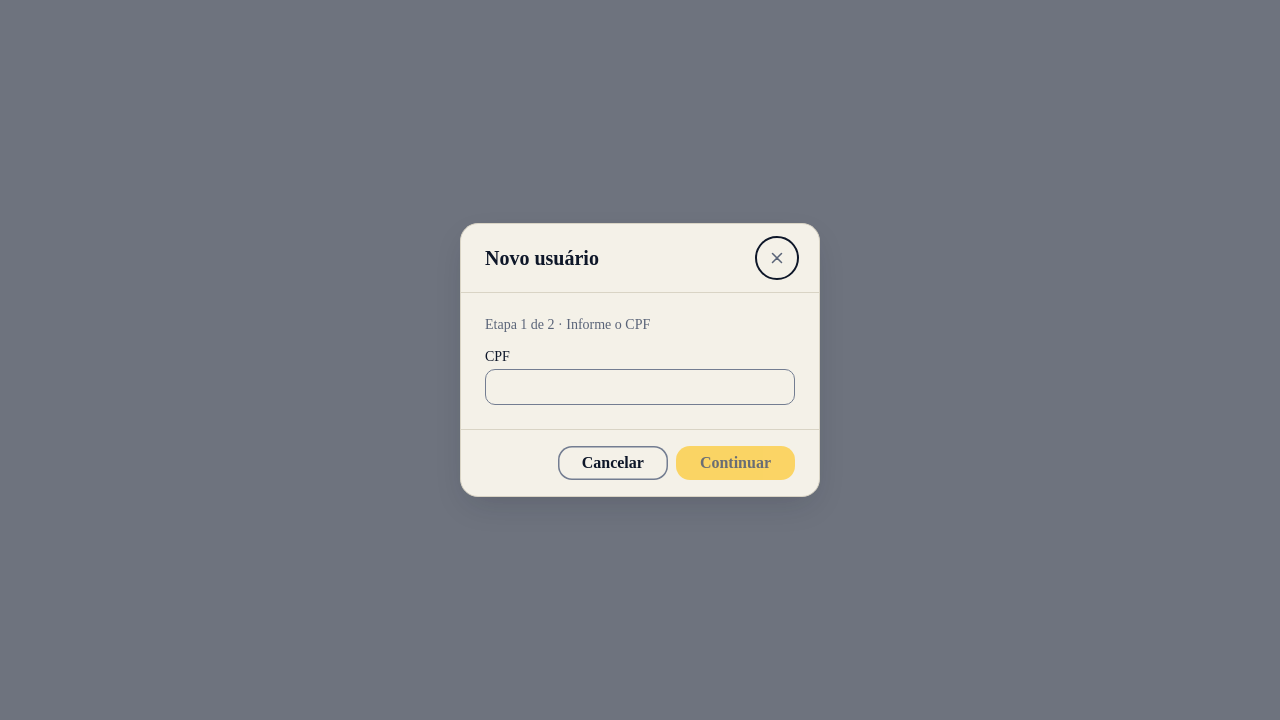
NovoUsuarioModal › mostra o erro da consulta e mantém o campo editável
In the field labelled "CPF": point(640, 387) [485,369,795,405], type "529.982.247-25"
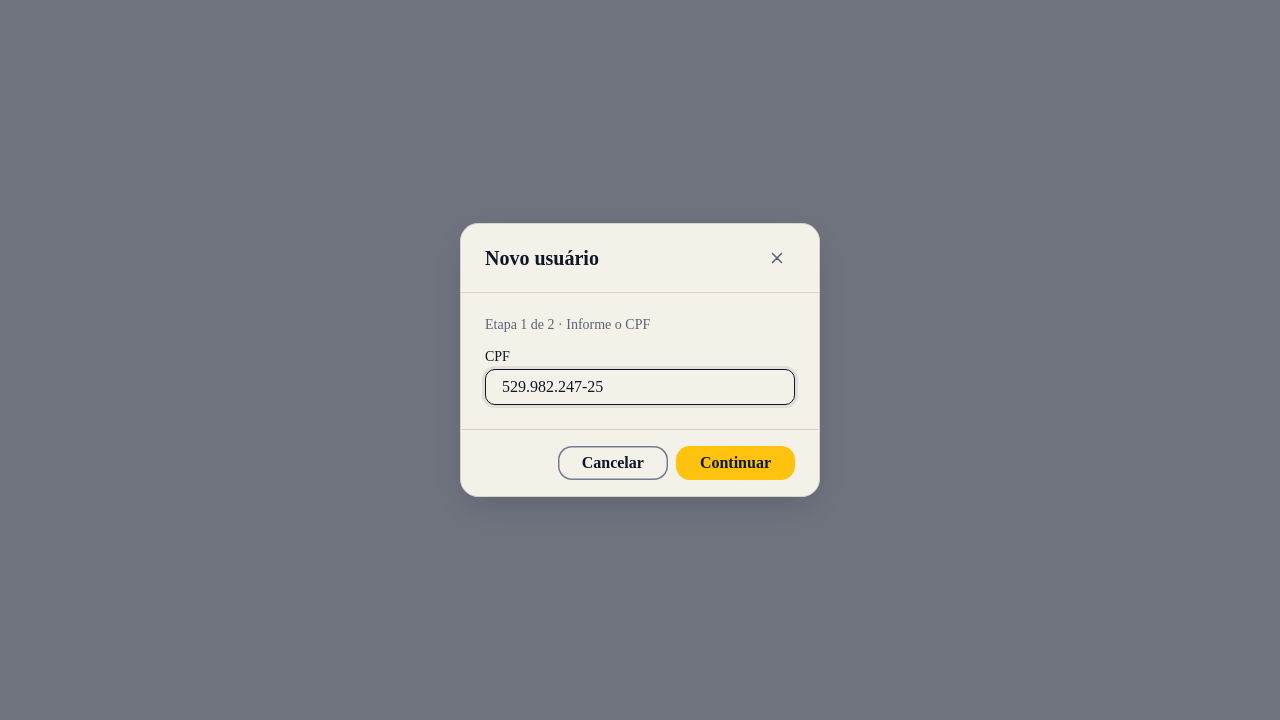
Click the button "Continuar": point(735, 463) [676,446,795,480]
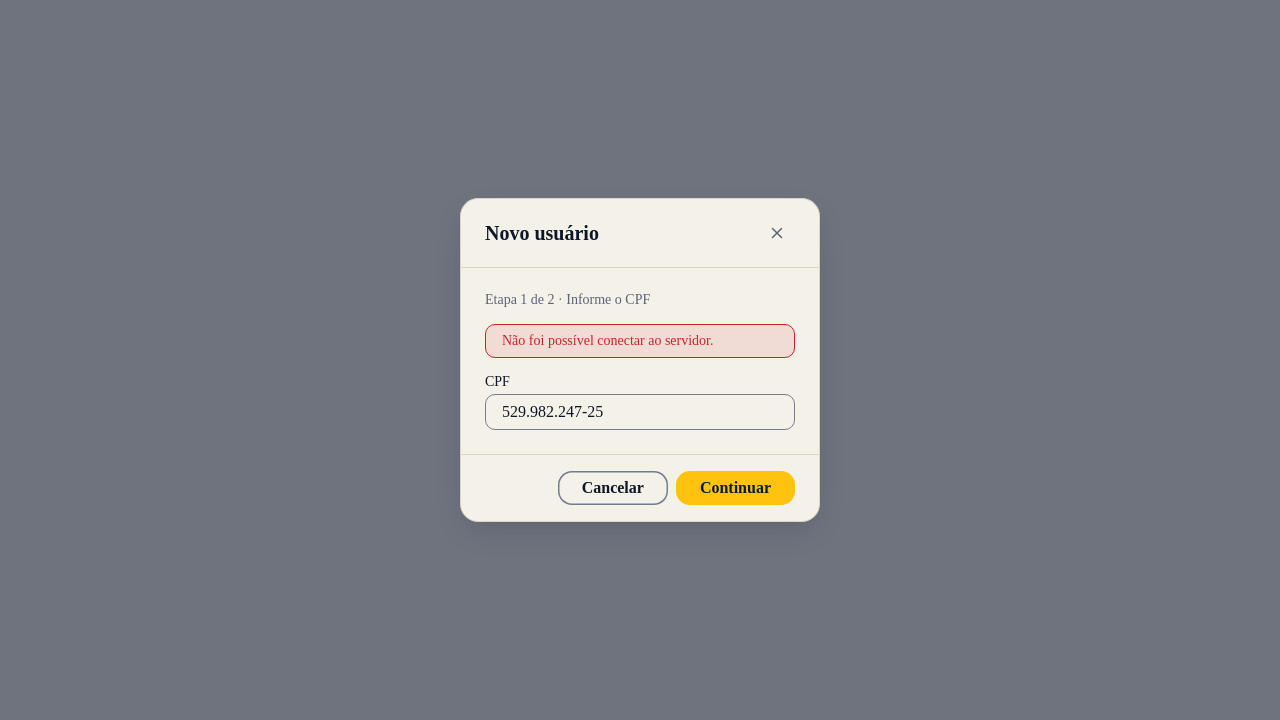
Expected: the field labelled "CPF" is enabled, [485,394,795,430]
Expected: the message reads "Não foi possível conectar ao servidor.", [502,333,714,348]
